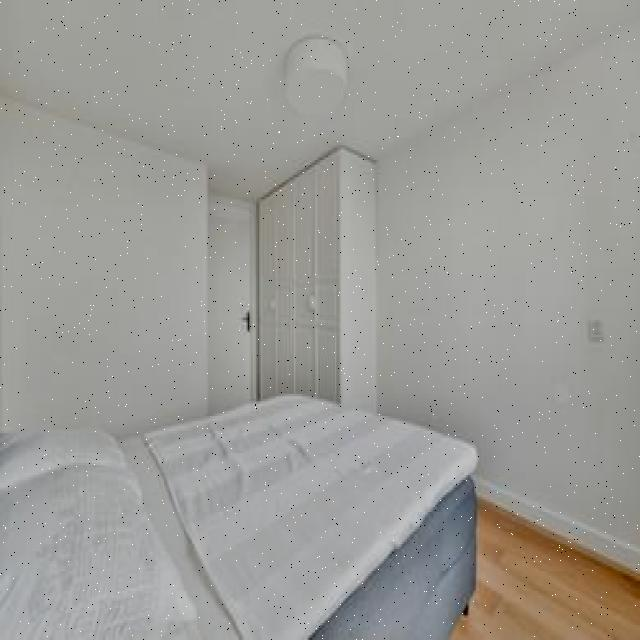bed: (0, 409, 471, 630)
